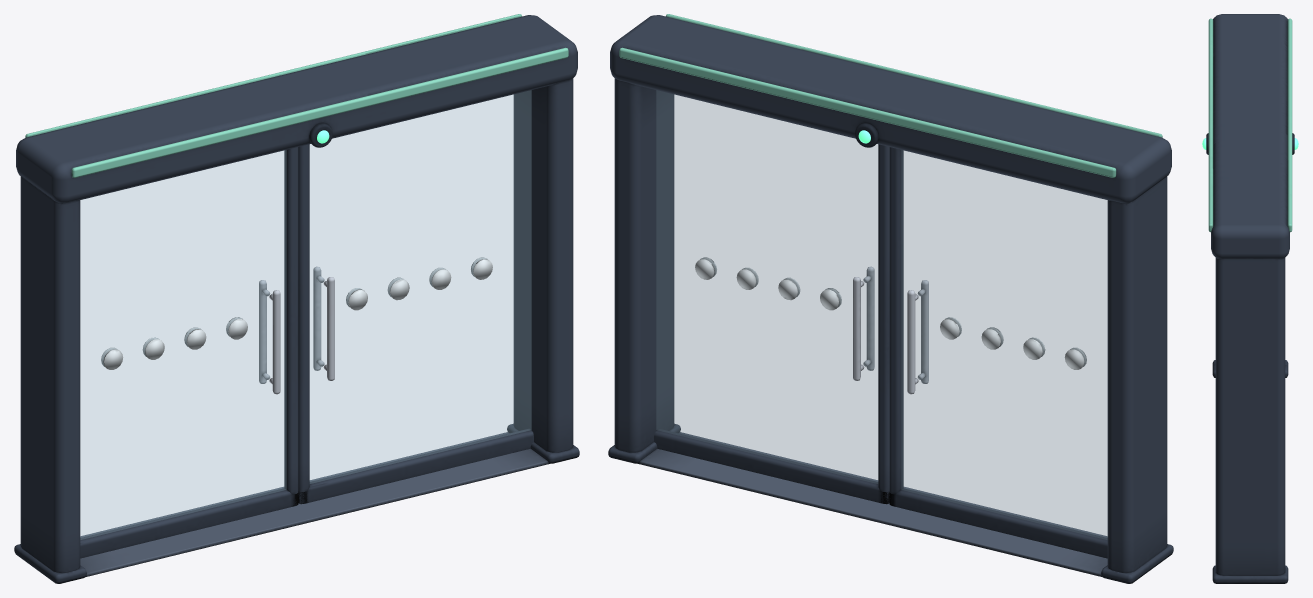
The model's file is sliding_door.glb.
3 renders of one model, left to right at view 1: azimuth 30°, elevation 25°; view 2: azimuth 150°, elevation 25°; view 3: azimuth 270°, elevation 25°, orthographic. The views are drawn at different scales.
Parts seen in each view (by area): view 1: sliding_door, DoorR, DoorL; view 2: sliding_door, DoorR, DoorL; view 3: sliding_door.
Boxes of the visible parts, x1=… form: sliding_door: x1=14, y1=14, x2=579, y2=583; DoorR: x1=259, y1=90, x2=533, y2=504; DoorL: x1=80, y1=147, x2=334, y2=558; sliding_door: x1=608, y1=14, x2=1173, y2=583; DoorR: x1=654, y1=90, x2=928, y2=504; DoorL: x1=853, y1=147, x2=1107, y2=558; sliding_door: x1=1202, y1=14, x2=1298, y2=583.
Bounding box in the file's own units: 3.28 × 2.49 × 0.6096.
Materials: 12 (10 with a texture image).
